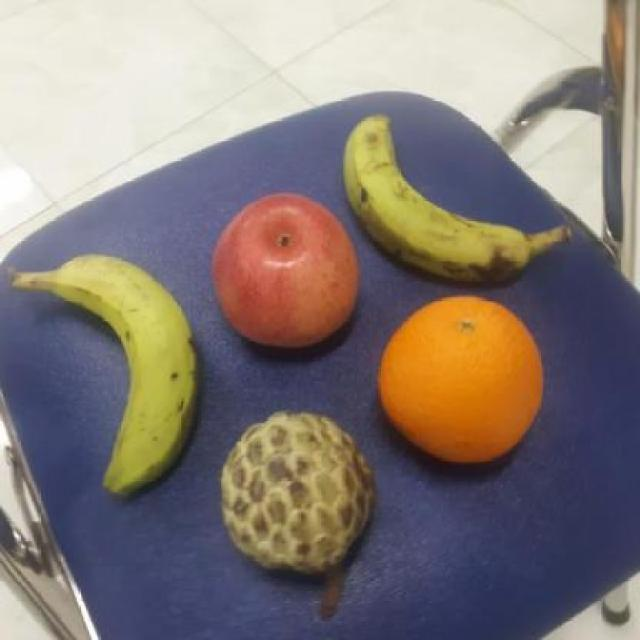apple: (209, 191, 360, 352)
banana: (42, 250, 206, 498), (338, 107, 536, 287)
oren: (372, 286, 550, 466)
sugar apple: (211, 406, 378, 576)
